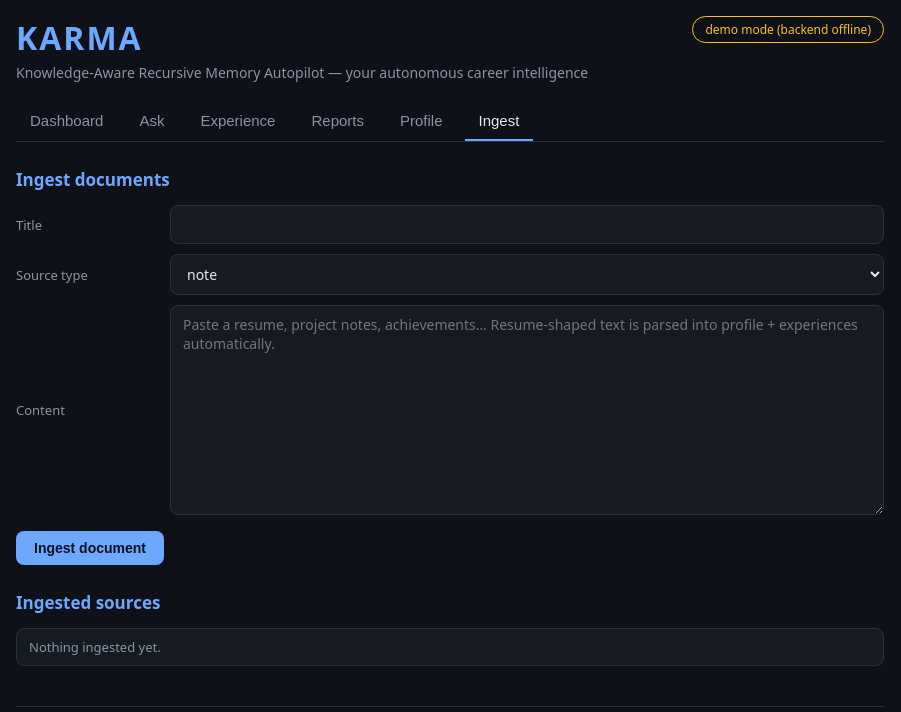
Test: failure feedback + demo fallback correctness › autopilot run failure surfaces an error banner instead of faking success
Click the button with test id "tab-Dashboard" at point(67, 122), box [16,102,117,141]
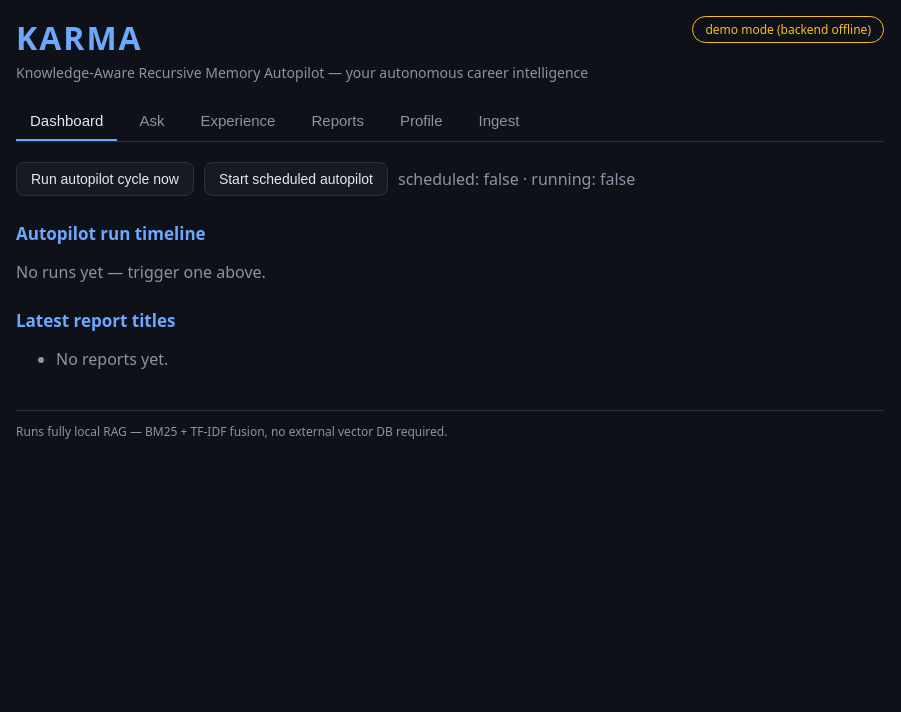
Click the button with test id "run-once" at point(105, 179), box [16,162,194,196]
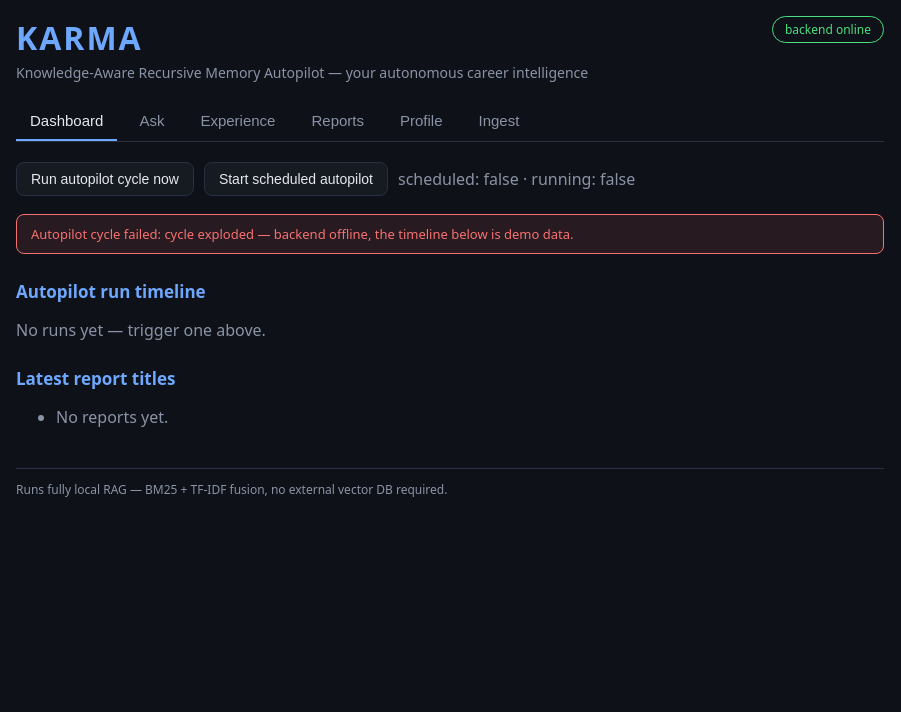
Now the message with test id "action-error" is shown, box [16,214,884,254]
Now the message with test id "action-error" shows "Autopilot cycle failed", box [31,225,574,243]
Now the message with test id "action-error" shows "cycle exploded", box [31,225,574,243]
